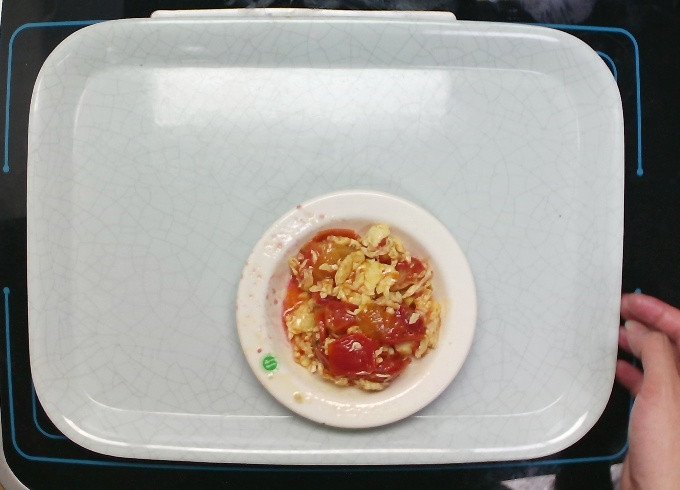WCQzf-Kuan_Bian_Yuan_Die: (230, 187, 482, 434)
